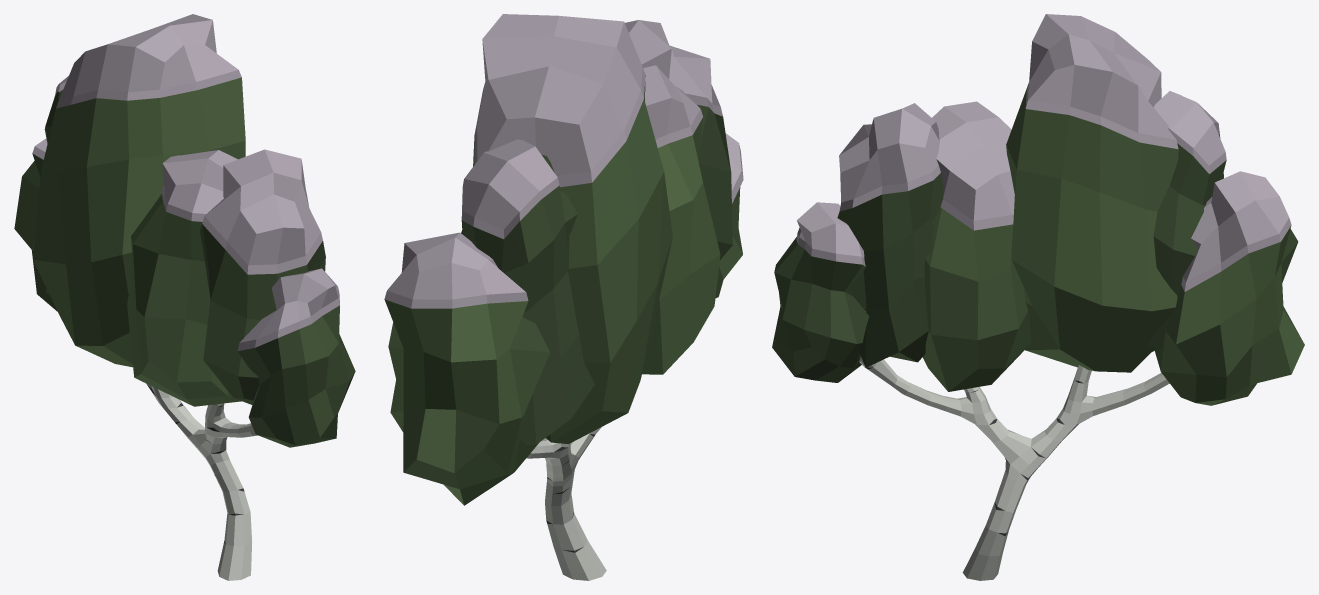
Rendered from BirchTree_Snow_4-transformed.glb.
3 views of the same model, side by side, from view 1: azimuth 30°, elevation 25°; view 2: azimuth 150°, elevation 25°; view 3: azimuth 270°, elevation 25° (orthographic). The views are drawn at different scales.
Visible parts, largest first — view 1: BirchTree_Snow_4; view 2: BirchTree_Snow_4; view 3: BirchTree_Snow_4.
Part boxes in pixels (x1,y1,x2,y2): BirchTree_Snow_4: (14, 14, 355, 580); BirchTree_Snow_4: (384, 14, 743, 580); BirchTree_Snow_4: (772, 14, 1304, 580).
Bounding box in the file's own units: 1.15 × 3.6 × 3.29.
Materials: 1 (1 with a texture image).
